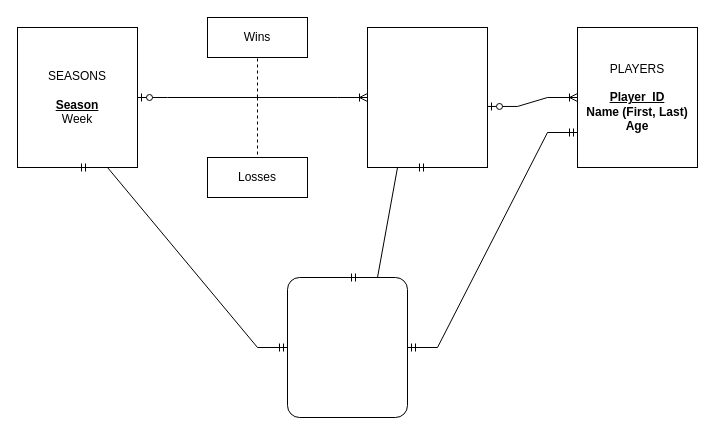
Image size: 715x435. Some labels were removed from this diagram. The shapes that lost their labels are listed below. From the top down, each one's box as (x1, y1, x2, y2) in pixels, then its label:
(366, 26, 488, 168): TEAMS Team Code
(286, 276, 408, 418): SCORES FantasyPoints
